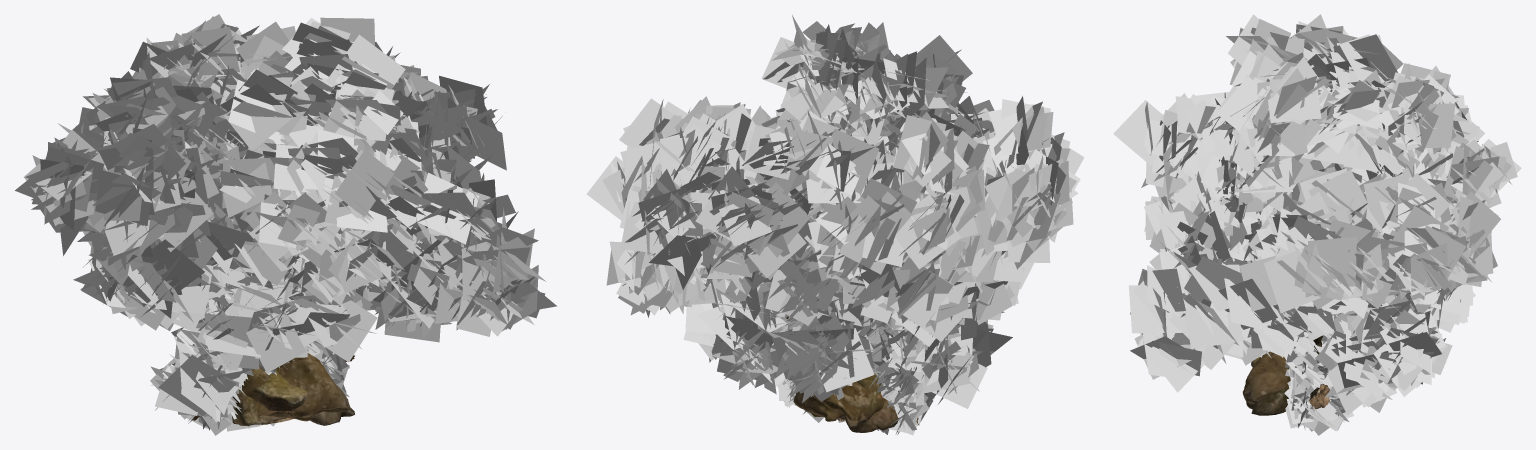
The model's file is realista.glb.
3 renders of one model, left to right at view 1: azimuth 30°, elevation 25°; view 2: azimuth 150°, elevation 25°; view 3: azimuth 270°, elevation 25°, orthographic. The views are drawn at different scales.
Parts seen in each view (by area): view 1: SM_ArbolReal, SM_RocaMusgo1, SM_SetoReal, SM_RocaMusgo0, SM_RocaMusgo5; view 2: SM_ArbolReal, SM_SetoReal, SM_RocaMusgo1, SM_RocaMusgo2, SM_RocaMusgo0; view 3: SM_ArbolReal, SM_SetoReal, SM_RocaMusgo1, SM_RocaMusgo2.
Boxes of the visible parts, x1=… form: SM_ArbolReal: x1=15, y1=14, x2=556, y2=421; SM_RocaMusgo1: x1=232, y1=353, x2=350, y2=424; SM_SetoReal: x1=186, y1=283, x2=349, y2=435; SM_RocaMusgo0: x1=253, y1=368, x2=307, y2=417; SM_RocaMusgo5: x1=232, y1=387, x2=286, y2=426; SM_ArbolReal: x1=586, y1=15, x2=1084, y2=408; SM_SetoReal: x1=777, y1=309, x2=936, y2=435; SM_RocaMusgo1: x1=812, y1=382, x2=886, y2=421; SM_RocaMusgo2: x1=842, y1=381, x2=898, y2=432; SM_RocaMusgo0: x1=793, y1=391, x2=870, y2=421; SM_ArbolReal: x1=1113, y1=14, x2=1521, y2=415; SM_SetoReal: x1=1284, y1=334, x2=1353, y2=435; SM_RocaMusgo1: x1=1242, y1=351, x2=1287, y2=403; SM_RocaMusgo2: x1=1246, y1=389, x2=1288, y2=415.
Size of the model in its own units: 11.18 by 9.14 by 9.21.
Materials: 26 (24 with a texture image).
